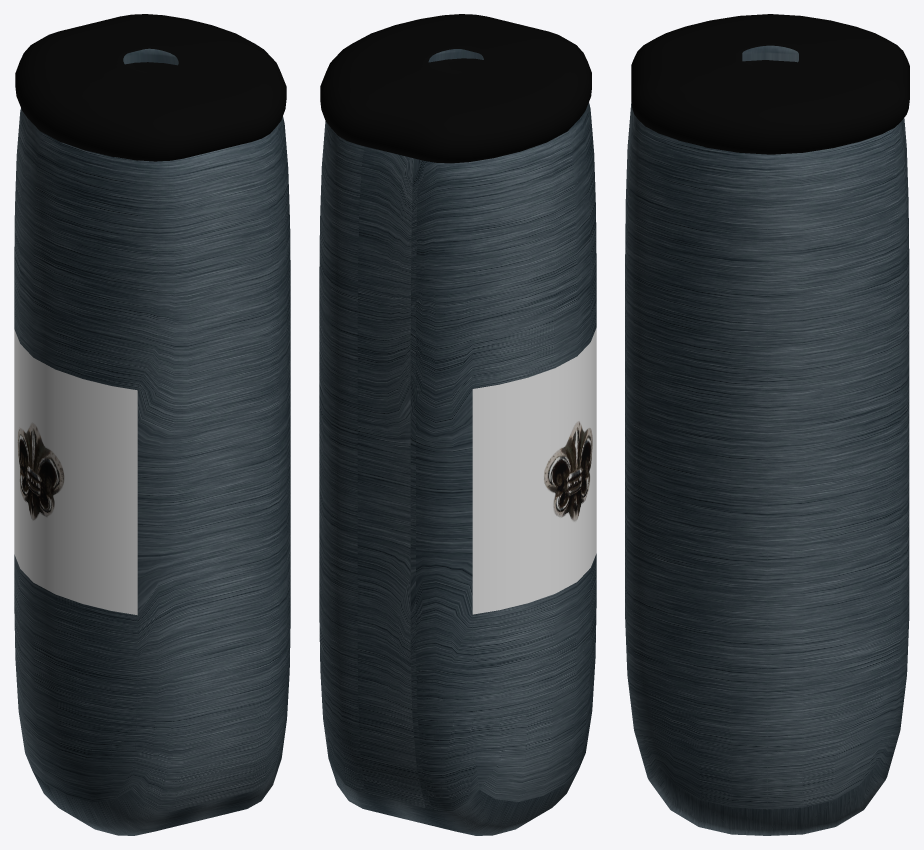
File: thermis.fbx
The picture shows the model from 3 angles, left to right: view 1: azimuth 30°, elevation 25°; view 2: azimuth 150°, elevation 25°; view 3: azimuth 270°, elevation 25°; orthographic projection.
Visible parts, largest first — view 1: thermis1, thermis; view 2: thermis1, thermis; view 3: thermis1, thermis.
Part boxes in pixels (x1,y1,x2,y2): thermis1: (14, 48, 290, 835); thermis: (15, 14, 286, 161); thermis1: (319, 49, 596, 835); thermis: (320, 14, 591, 163); thermis1: (625, 45, 909, 835); thermis: (631, 14, 909, 154).
Bounding box in the file's own units: 0.1976 × 0.5868 × 0.2033.
